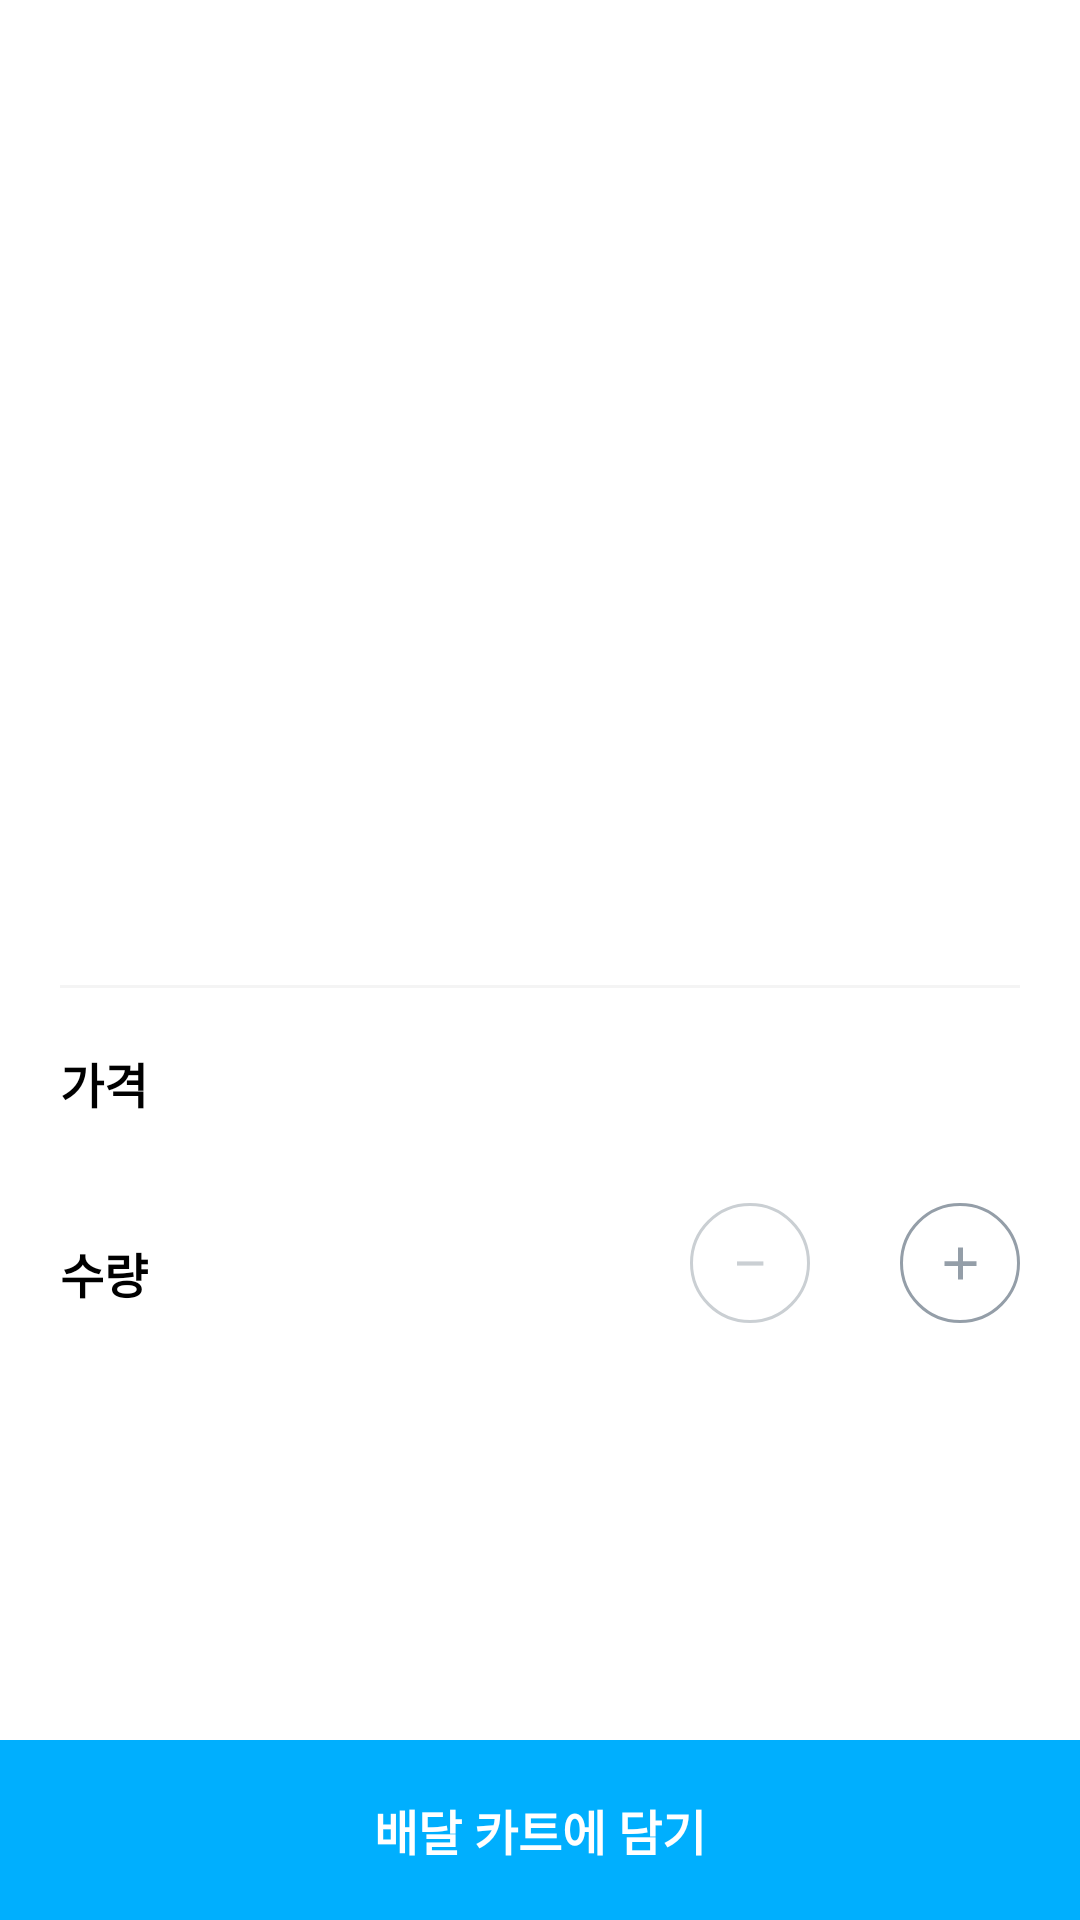

Where icons sit on this 1080 × 1920 app screen, as (x1, y1, x2, y2):
minus: (690, 1203, 810, 1323)
plus: (900, 1203, 1020, 1323)
